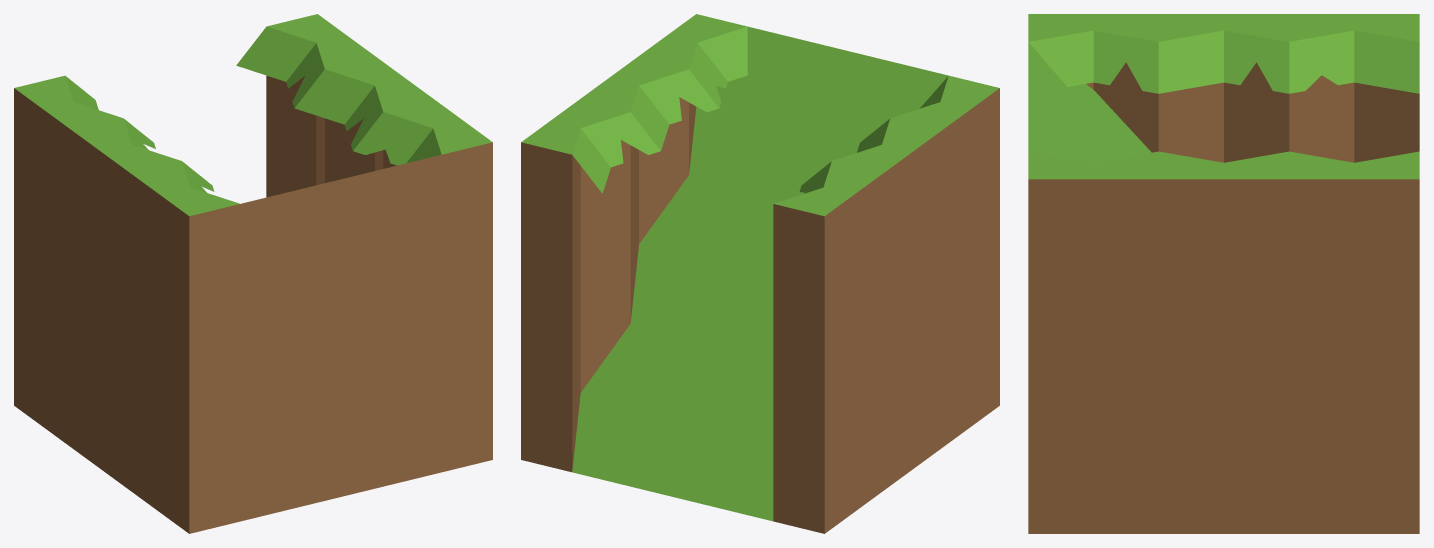
Rendered from cliff_blockSlopeWalls_rock.glb.
3 renders of one model, left to right at view 1: azimuth 30°, elevation 25°; view 2: azimuth 150°, elevation 25°; view 3: azimuth 270°, elevation 25°, orthographic. The views are drawn at different scales.
Visible parts, largest first — view 1: cliff_blockSlopeWalls_rock; view 2: cliff_blockSlopeWalls_rock; view 3: cliff_blockSlopeWalls_rock.
Part boxes in pixels (left/top/right/bottom): cliff_blockSlopeWalls_rock: left=14, top=14, right=492, bottom=533; cliff_blockSlopeWalls_rock: left=521, top=14, right=999, bottom=533; cliff_blockSlopeWalls_rock: left=1028, top=14, right=1419, bottom=533.
Bounding box in the file's own units: 1 × 1 × 1.
